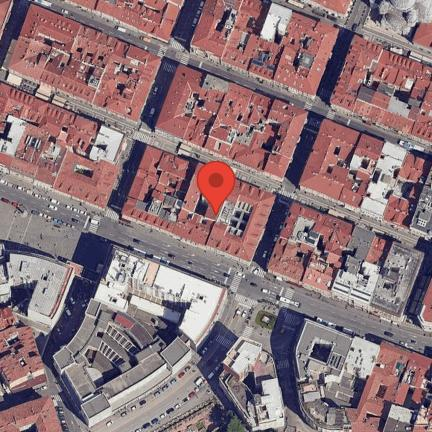area_open: (208, 257, 327, 376), (1, 197, 126, 274), (33, 281, 94, 365), (109, 114, 161, 176), (154, 398, 226, 432)
built: (51, 247, 228, 428), (121, 146, 277, 267), (268, 202, 424, 323), (8, 4, 163, 123), (154, 64, 309, 183), (0, 83, 125, 210), (300, 119, 432, 239), (190, 0, 339, 101), (330, 35, 432, 148), (293, 318, 382, 432), (0, 245, 105, 333), (347, 341, 432, 432), (219, 336, 286, 432), (66, 0, 185, 42), (0, 306, 49, 398), (363, 0, 432, 52), (0, 397, 63, 432), (287, 0, 354, 21), (417, 278, 432, 333)
vegetation_high: (224, 409, 249, 432)
